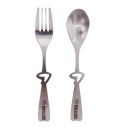fork: (26, 2, 59, 124)
